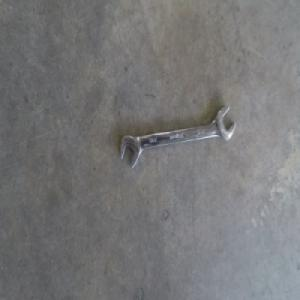Wrench: (119, 105, 235, 168)
